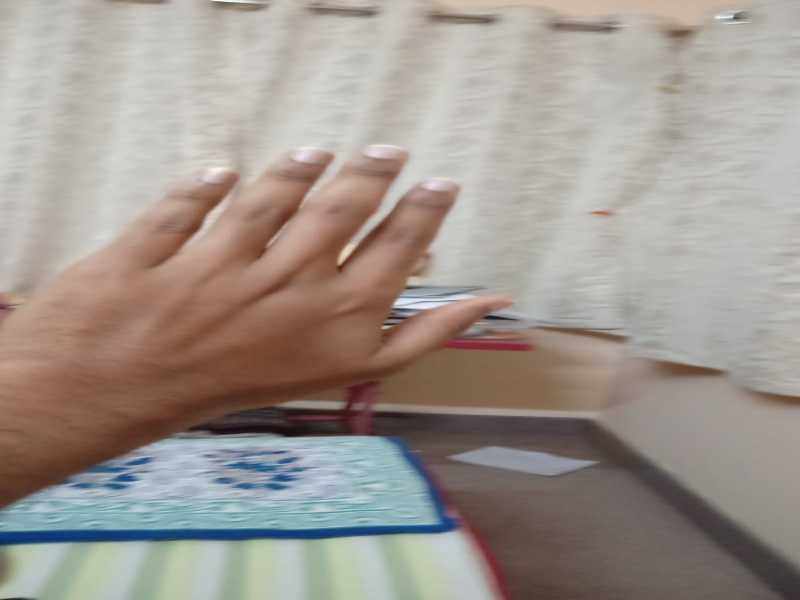Hand: (4, 138, 522, 449)
